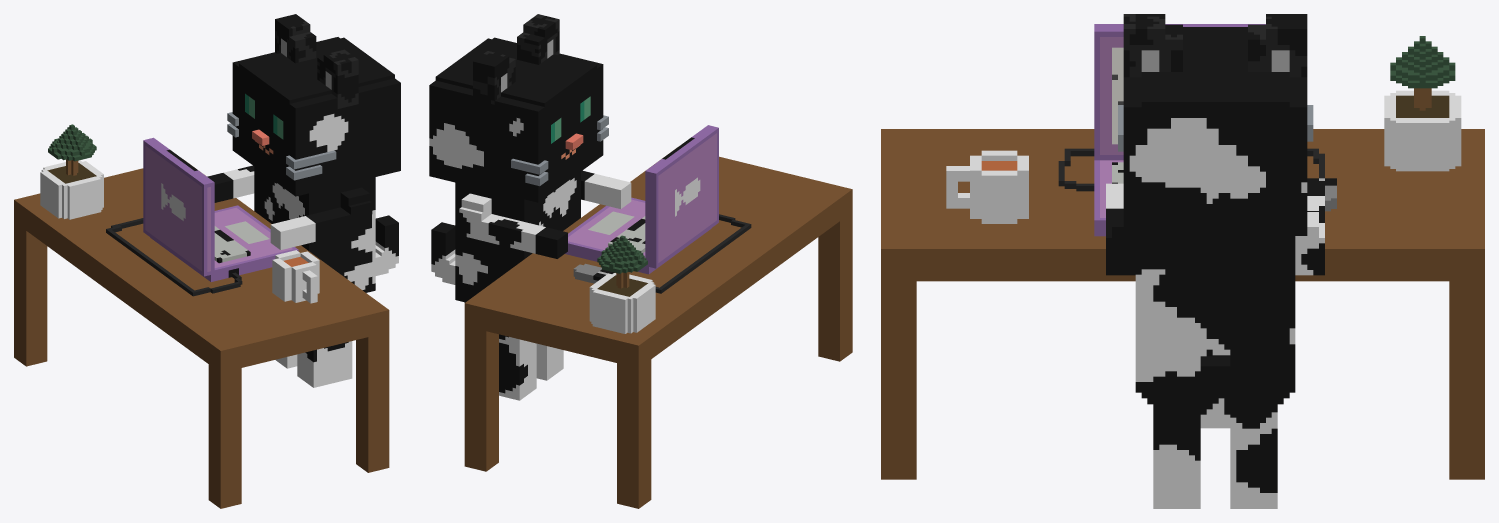
The model's file is catGB.glb.
The picture shows the model from 3 angles, left to right: view 1: azimuth 30°, elevation 25°; view 2: azimuth 150°, elevation 25°; view 3: azimuth 270°, elevation 25°; orthographic projection. The views are drawn at different scales.
Parts seen in each view (by area): view 1: Untitled; view 2: Untitled; view 3: Untitled.
Boxes of the visible parts, x1=… form: Untitled: x1=14, y1=14, x2=400, y2=508; Untitled: x1=429, y1=14, x2=852, y2=508; Untitled: x1=881, y1=14, x2=1484, y2=508.
Size of the model in its own units: 8.2 by 9.1 by 10.2.
1 material, 1 textured.
